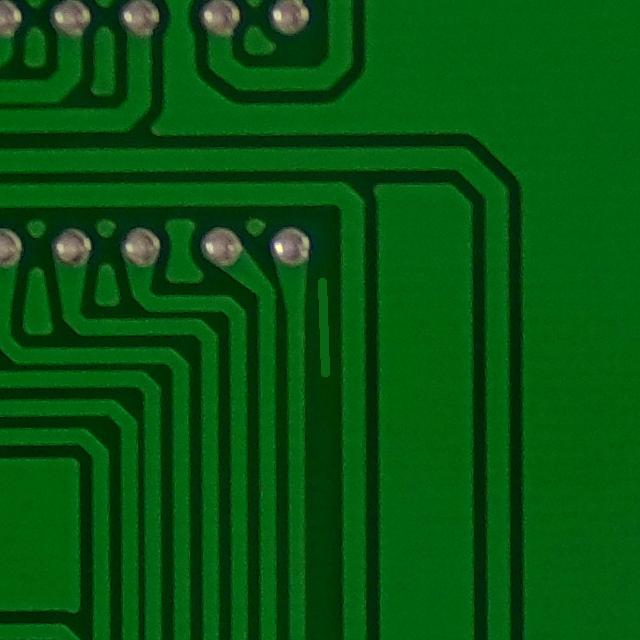spurious_copper: (296, 256, 344, 384)
